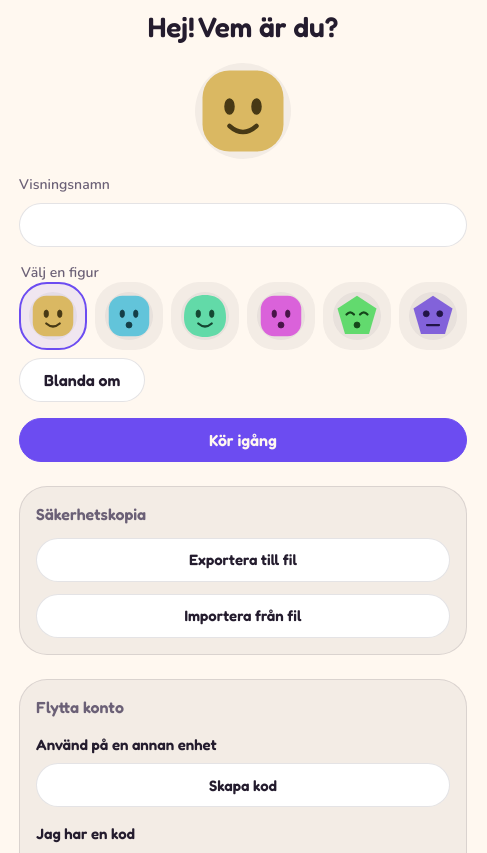
Test case: Profile › clears the message as soon as the learner types again
Click the button "Kör igång" at (243, 440), box [19,418,467,462]
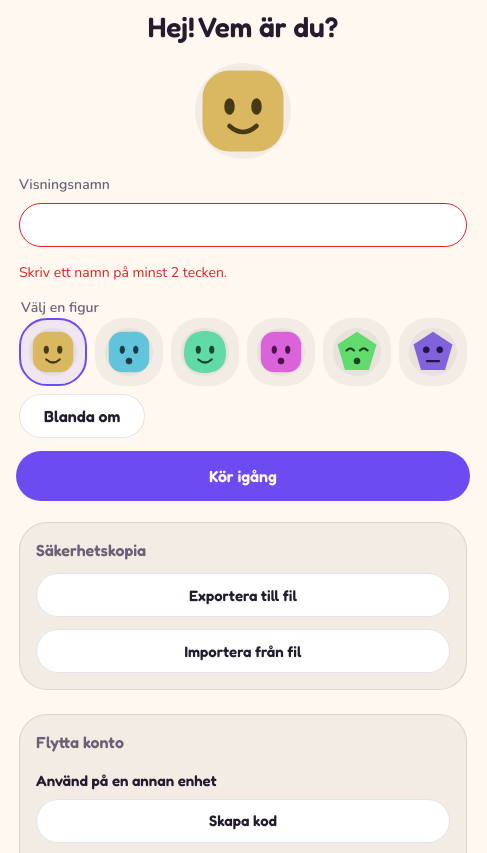
expect the message "Skriv ett namn på minst 2 tecken." is shown: met, box [19,263,227,282]
Type "S" into the field labelled "Visningsnamn" at (243, 225), box [19,203,467,247]
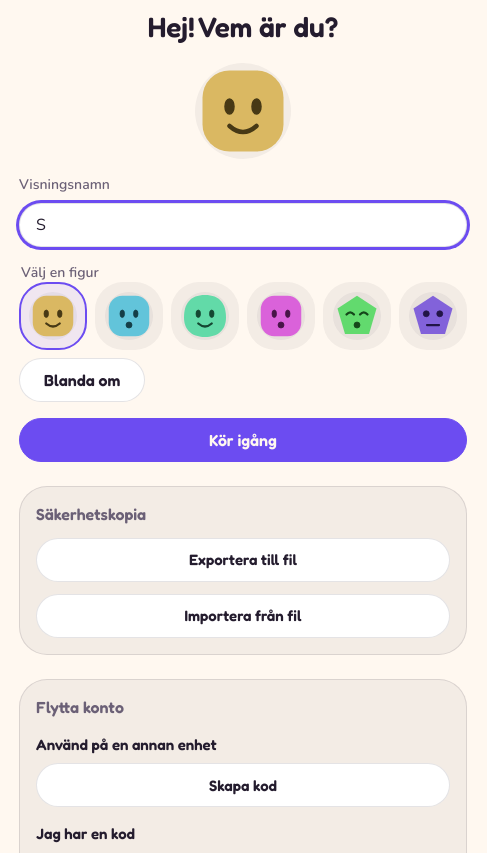
expect the message "Skriv ett namn på minst 2 tecken." is gone: met
